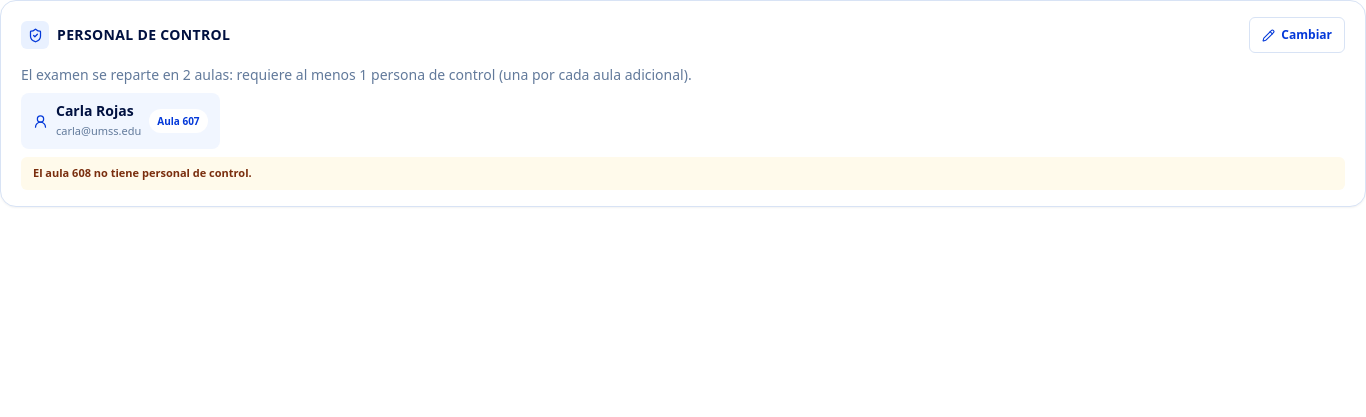
Test case: Personal de control del examen (V53) › con varias aulas muestra el aula de cada control y avisa del aula sin control (V66)
The image size is (1366, 417).
Expected: the text "Aula 607" is shown, x1=149 y1=109 x2=208 y2=133
Expected: the text "El aula 608 no tiene personal de control." is shown, x1=21 y1=157 x2=1345 y2=190
Click the button "Cambiar". click: (1297, 35)
box: x1=1249 y1=17 x2=1345 y2=53
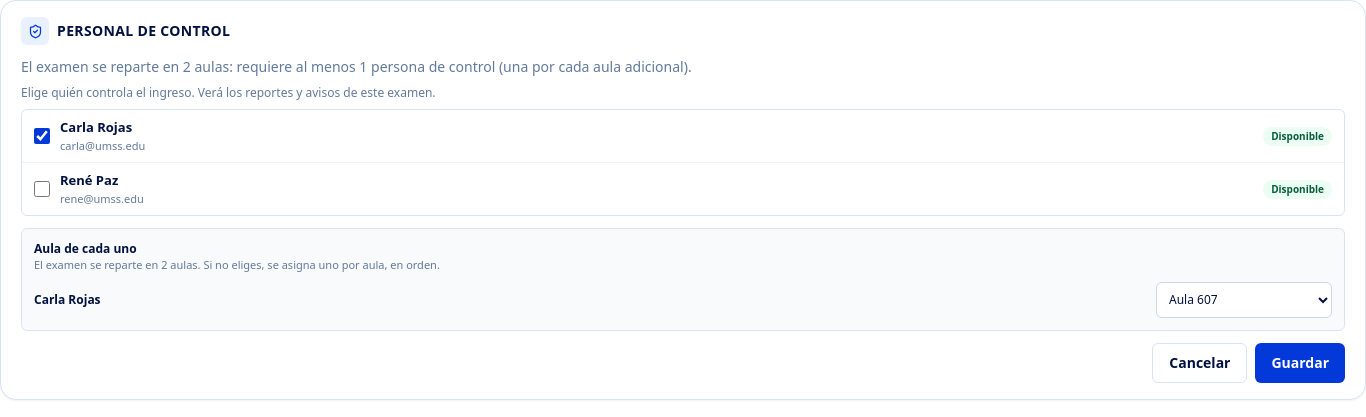
Select "Aula 608" in the dropdown named "Aula de Carla Rojas". click: (1244, 300)
box: x1=1156 y1=282 x2=1332 y2=318
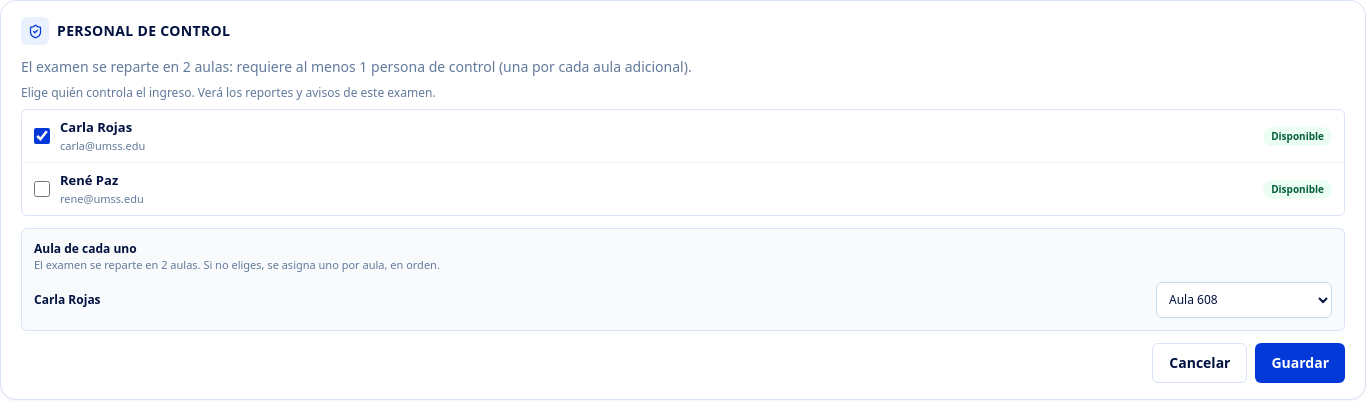
Click the button "Guardar". click: (1300, 362)
box: x1=1256 y1=342 x2=1345 y2=382
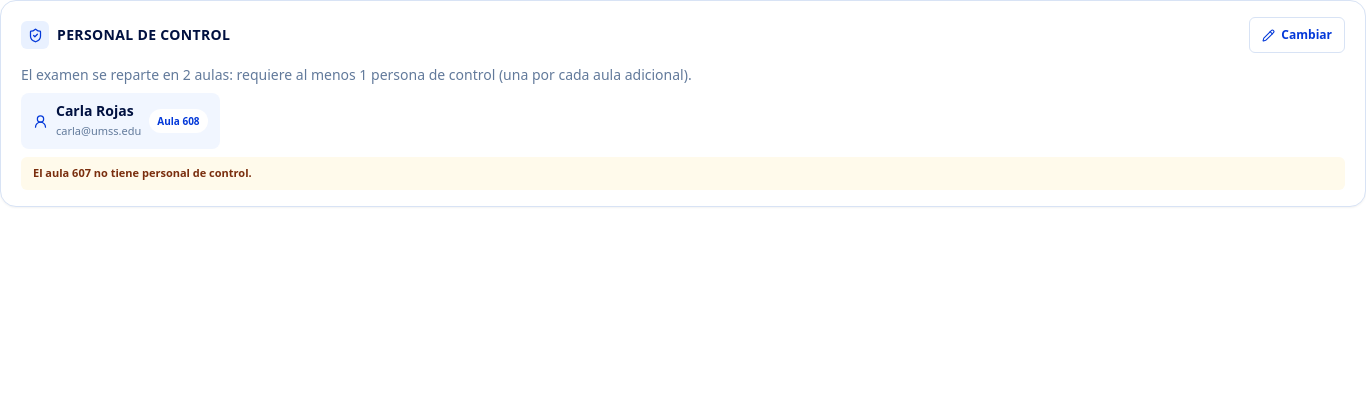
Now the text "Aula 608" is shown, box x1=149 y1=109 x2=208 y2=133
